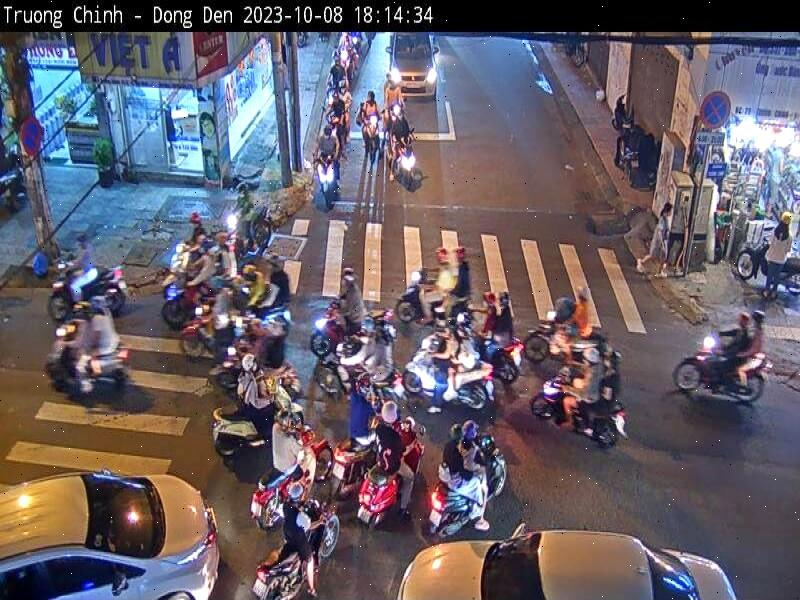car: (0, 435, 226, 600), (380, 520, 753, 600), (372, 37, 463, 107)
motorcycle: (227, 486, 341, 600), (670, 316, 787, 422), (426, 427, 522, 533), (535, 370, 629, 468), (196, 388, 312, 466), (342, 409, 422, 509), (399, 332, 499, 401)
